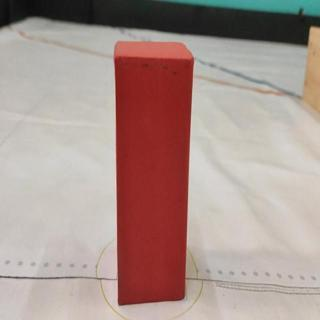redbox: (113, 39, 193, 306)
